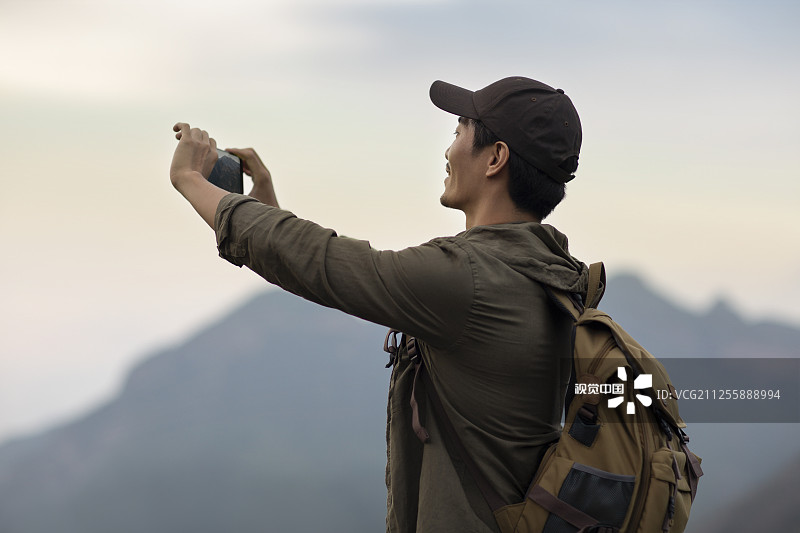taking photos: (144, 101, 299, 228)
